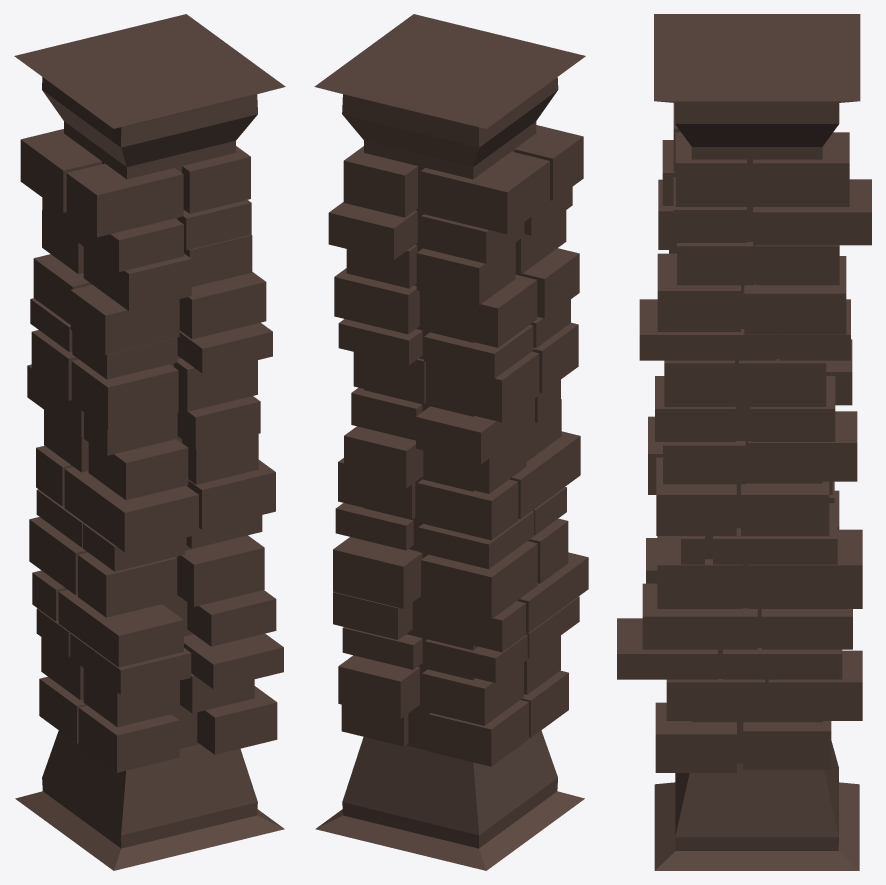
Rendered from wall.dae.
3 renders of one model, left to right at view 1: azimuth 30°, elevation 25°; view 2: azimuth 150°, elevation 25°; view 3: azimuth 270°, elevation 25°, orthographic. The views are drawn at different scales.
Visible parts, largest first — view 1: Cube.040; view 2: Cube.040; view 3: Cube.040.
Part boxes in pixels (x1=…): Cube.040: x1=14, y1=14, x2=285, y2=870; Cube.040: x1=314, y1=14, x2=588, y2=870; Cube.040: x1=617, y1=14, x2=871, y2=870.
Size of the model in its own units: 3.77 by 4.48 by 14.92.
